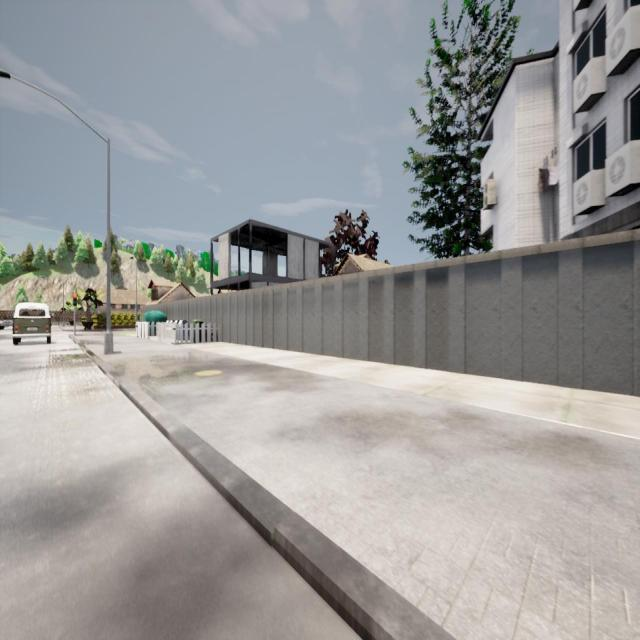Vehicle: (12, 302, 50, 344)
traffic_light: (73, 293, 77, 306), (60, 309, 62, 314)
